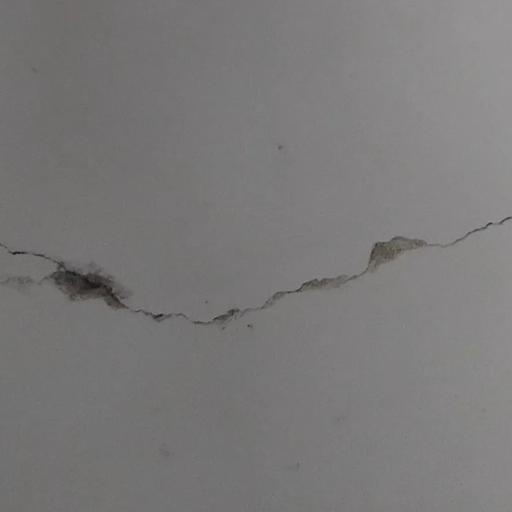major_crack: (0, 194, 512, 331)
